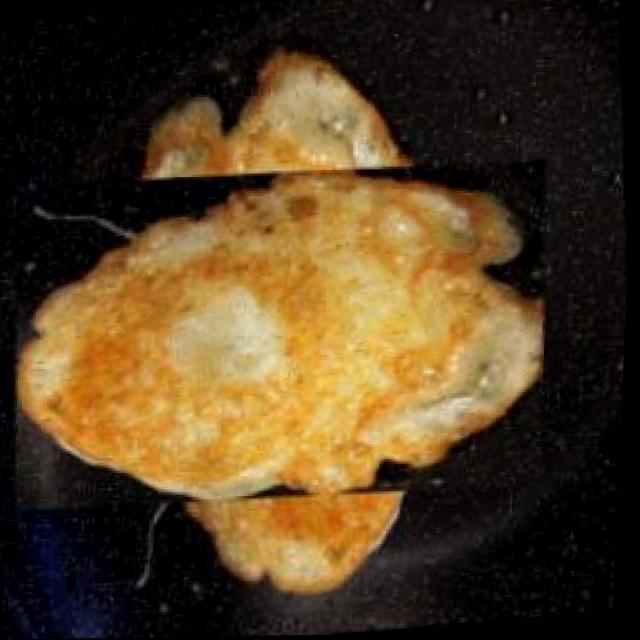fried_eggs: (40, 97, 526, 572)
